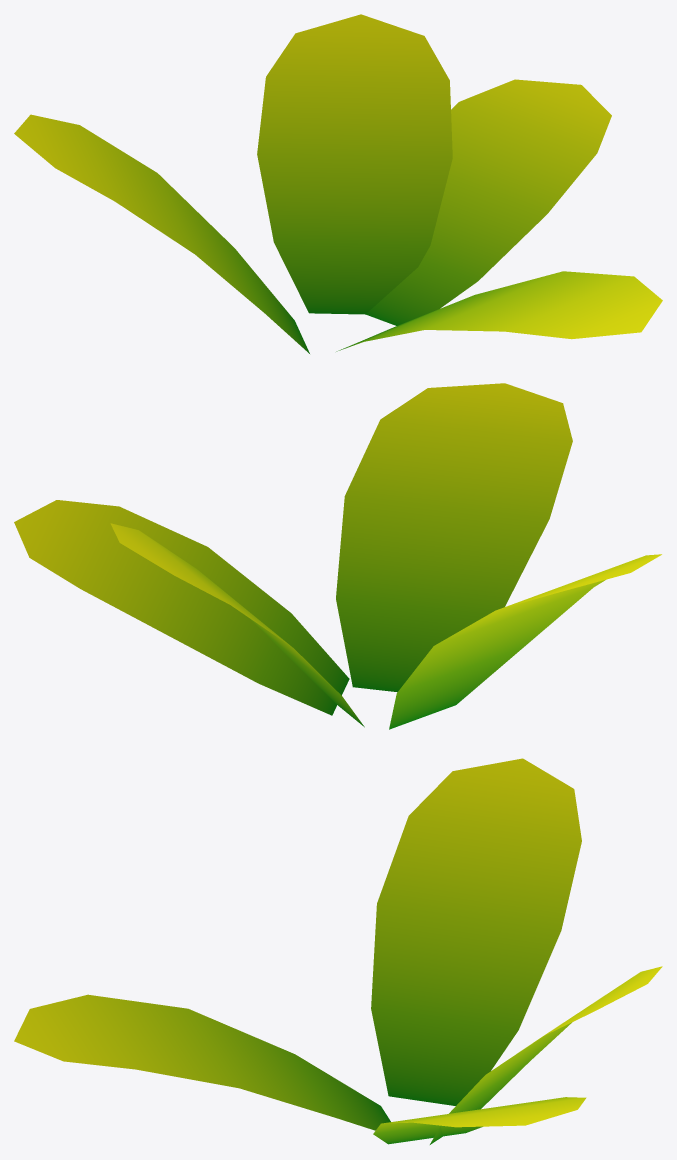
File: grass_leaf_small.glb
3 renders of one model, top to bottom at view 1: azimuth 30°, elevation 25°; view 2: azimuth 150°, elevation 25°; view 3: azimuth 270°, elevation 25°, orthographic. The views are drawn at different scales.
Visible parts, largest first — view 1: grass_leaf_small; view 2: grass_leaf_small; view 3: grass_leaf_small.
Part boxes in pixels (bbox=[...]): grass_leaf_small: bbox=[14, 14, 662, 353]; grass_leaf_small: bbox=[14, 383, 661, 729]; grass_leaf_small: bbox=[14, 758, 662, 1144].
Size of the model in its own units: 0.1006 by 0.0384 by 0.0997.
